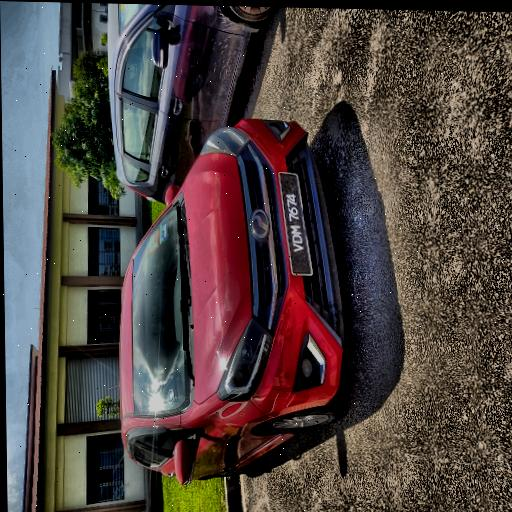license_plate: (277, 172, 312, 273)
